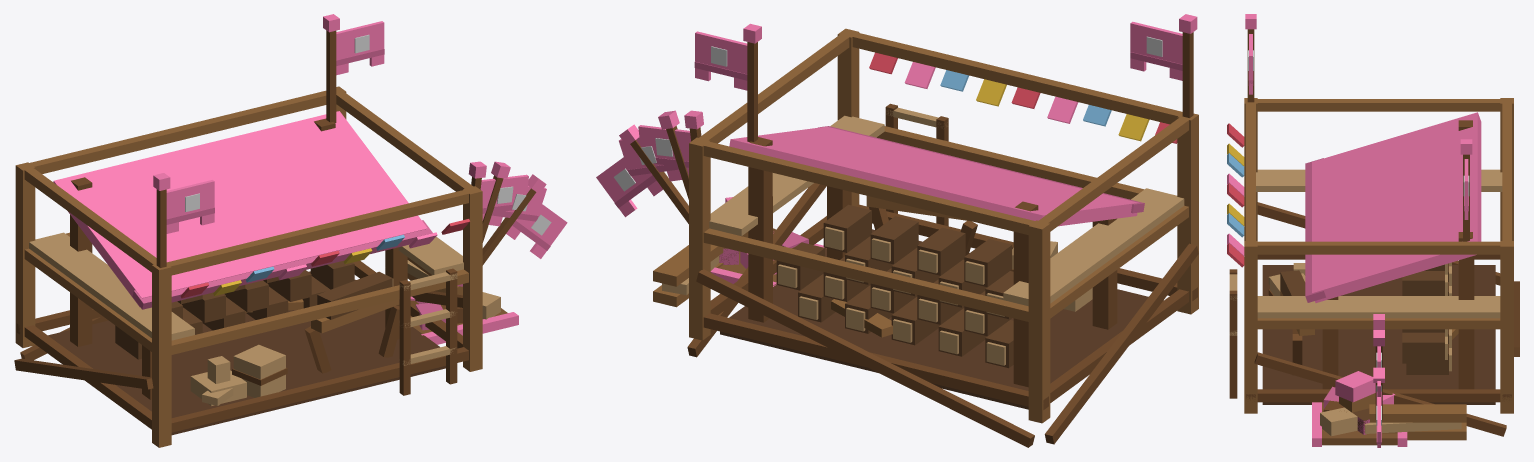
Rendered from opossum-producer.glb.
The picture shows the model from 3 angles, left to right: view 1: azimuth 30°, elevation 25°; view 2: azimuth 150°, elevation 25°; view 3: azimuth 270°, elevation 25°; orthographic projection. The views are drawn at different scales.
Parts seen in each view (by area): view 1: scaffold-mesh, built-mesh, dismantle-50-mesh, dismantle-75-mesh, dismantle-25-mesh, banner, scaffold-banner, dismantle-25-banner, flag-pole, dismantle-50-banner, dismantle-75-banner, scaffold-flag-pole (+2 smaller); view 2: scaffold-mesh, built-mesh, dismantle-50-mesh, dismantle-75-mesh, scaffold-banner, banner, dismantle-25-mesh, dismantle-25-banner, flag-pole, dismantle-75-banner, dismantle-50-banner, scaffold-flag-pole (+2 smaller); view 3: scaffold-mesh, built-mesh, dismantle-50-mesh, dismantle-25-mesh, dismantle-75-mesh, flag-pole, scaffold-flag-pole, banner, scaffold-banner, dismantle-25-flag-pole.
Part boxes in pixels (box(x1,y1,x2,y2)): scaffold-mesh: box(14, 86, 482, 447); built-mesh: box(53, 111, 432, 378); dismantle-50-mesh: box(48, 271, 518, 417); dismantle-75-mesh: box(70, 241, 518, 399); dismantle-25-mesh: box(70, 284, 518, 405); banner: box(336, 21, 384, 75); scaffold-banner: box(166, 180, 214, 233); dismantle-25-banner: box(506, 197, 567, 258); flag-pole: box(323, 14, 339, 122); dismantle-50-banner: box(488, 183, 546, 230); dismantle-75-banner: box(480, 174, 528, 220); scaffold-flag-pole: box(153, 173, 170, 267); scaffold-mesh: box(653, 28, 1198, 447); built-mesh: box(729, 126, 1144, 367); dismantle-50-mesh: box(710, 205, 1163, 390); dismantle-75-mesh: box(711, 186, 1117, 367); scaffold-banner: box(1130, 21, 1182, 80); banner: box(694, 31, 747, 90); dismantle-25-mesh: box(712, 197, 1117, 359); dismantle-25-banner: box(596, 155, 662, 217); flag-pole: box(743, 23, 761, 141); dismantle-75-banner: box(638, 125, 690, 175); dismantle-50-banner: box(619, 134, 682, 186); scaffold-flag-pole: box(1179, 14, 1197, 117); scaffold-mesh: box(1227, 98, 1519, 440); built-mesh: box(1280, 112, 1481, 388); dismantle-50-mesh: box(1262, 265, 1495, 445); dismantle-25-mesh: box(1269, 274, 1458, 446); dismantle-75-mesh: box(1281, 264, 1451, 446); flag-pole: box(1460, 139, 1472, 241); scaffold-flag-pole: box(1245, 14, 1256, 102); banner: box(1463, 159, 1469, 219); scaffold-banner: box(1248, 34, 1253, 94); dismantle-25-flag-pole: box(1373, 367, 1384, 419).
Size of the model in its own units: 2.71 by 1.58 by 1.51.
